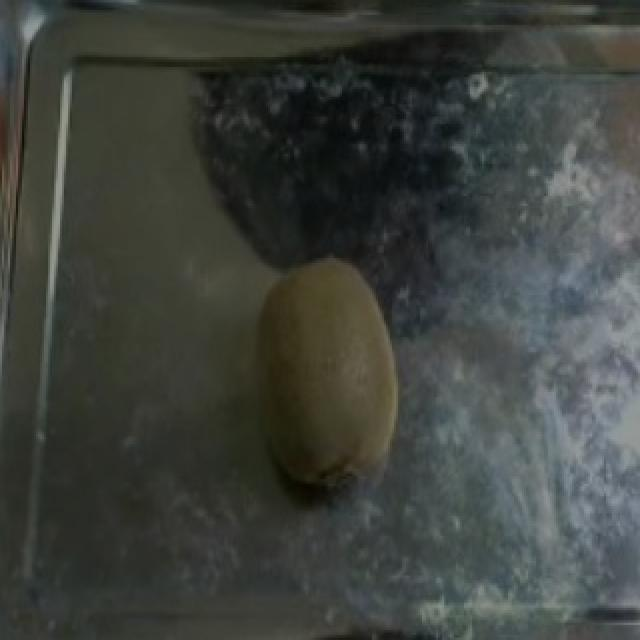Fruit: (238, 246, 414, 508)
